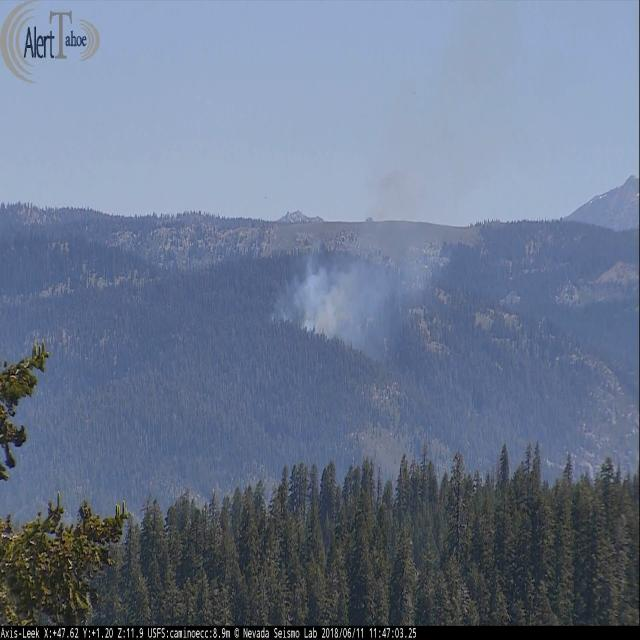smoke: (278, 250, 387, 366)
